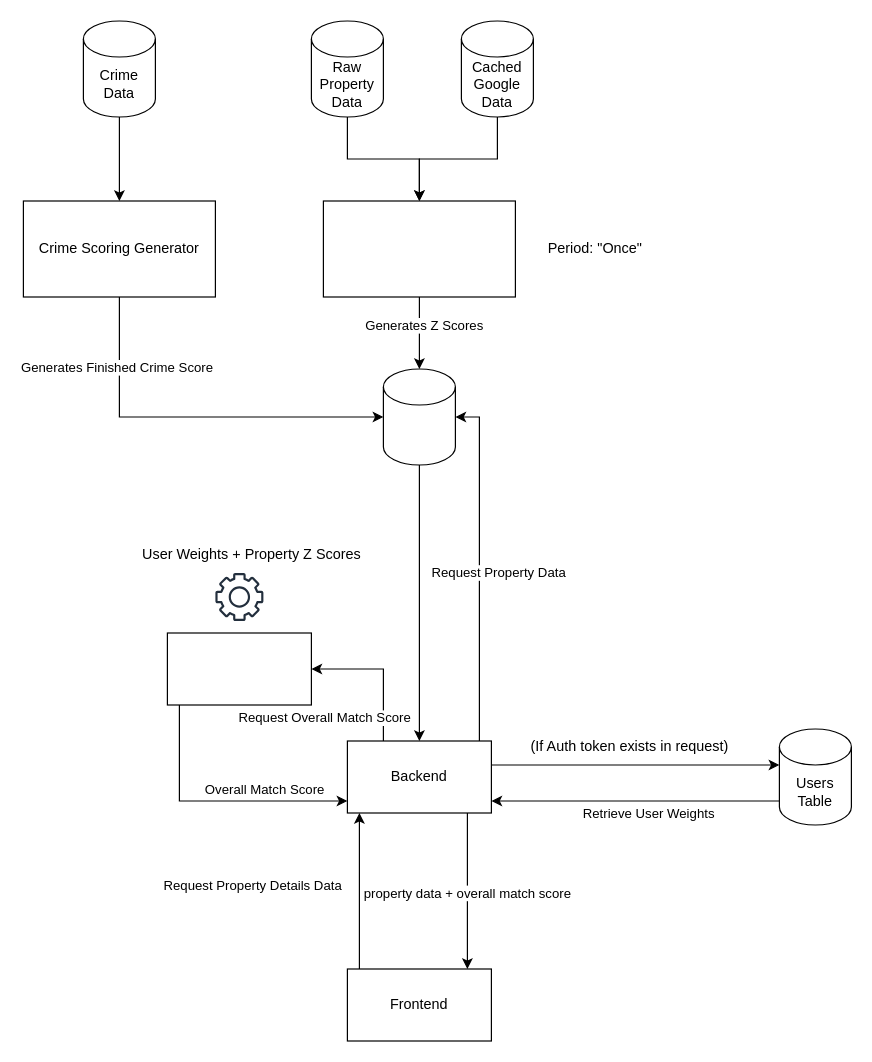
The diagram is 872 pixels wide and 1062 high, and some of its shapes have lost their labels. Here are the shapes that lost their labels. From the top down, the centre of each, then its label:
pixel 418 248: Raw Scoring Generator
pixel 418 416: Property + Score Data
pixel 238 668: Python (Lambda Func)
